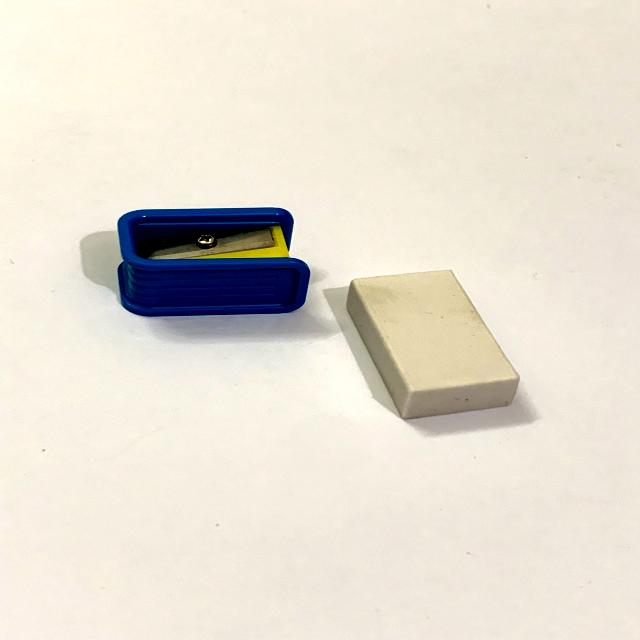Eraser: (317, 258, 566, 446)
Sharpner: (95, 194, 326, 331)
